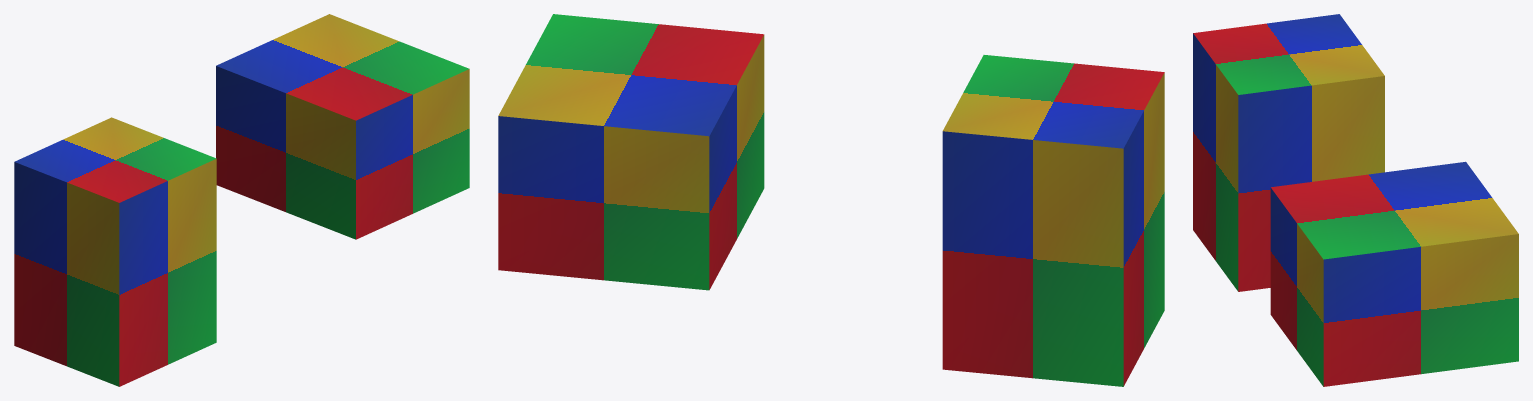
The model's file is colour-pbr-multipart.glb.
3 views of the same model, side by side, from view 1: azimuth 30°, elevation 25°; view 2: azimuth 150°, elevation 25°; view 3: azimuth 270°, elevation 25° (orthographic). The views are drawn at different scales.
Visible parts, largest first — view 1: left-cube, right-cube; view 2: left-cube, right-cube; view 3: right-cube, left-cube.
Boxes of the visible parts, <box> form: left-cube: <box>14,117,216,386</box>; right-cube: <box>216,14,469,239</box>; left-cube: <box>942,55,1164,386</box>; right-cube: <box>498,14,764,290</box>; right-cube: <box>1270,161,1518,386</box>; left-cube: <box>1193,14,1384,291</box>.
Size of the model in its own units: 4.33 by 1.7 by 2.55.
1 material, 1 textured.
